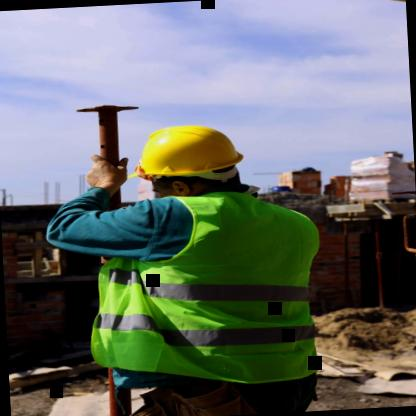helmet: (115, 110, 258, 200)
